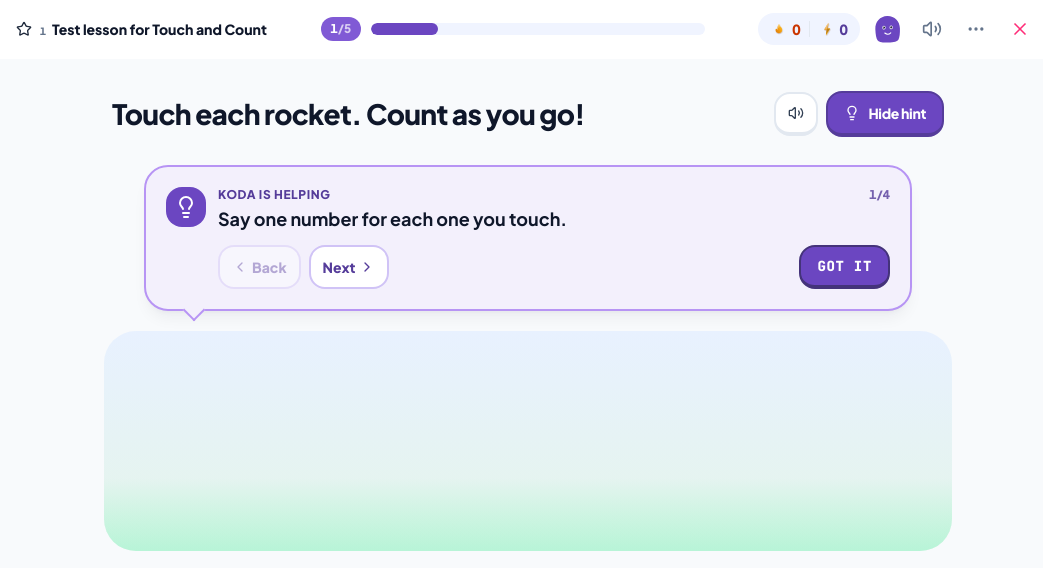
Scenario: the coach set to speak up once › does not climb, and does not come back once put away
Click the button "Got it" at point(845, 267), box [799,245,890,289]
Wait 60000 ms
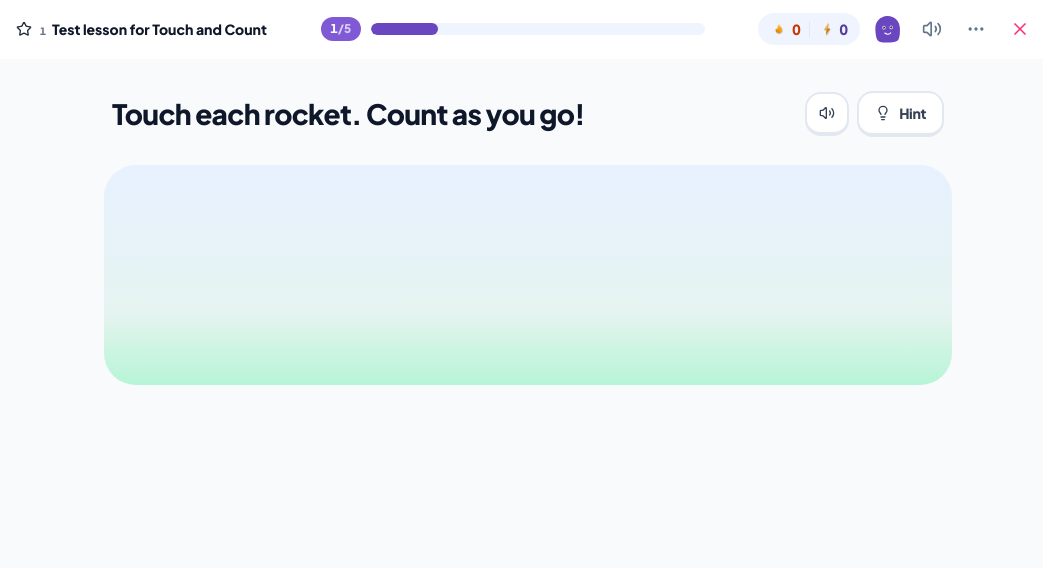
Expected: the text "Koda is helping" is gone
